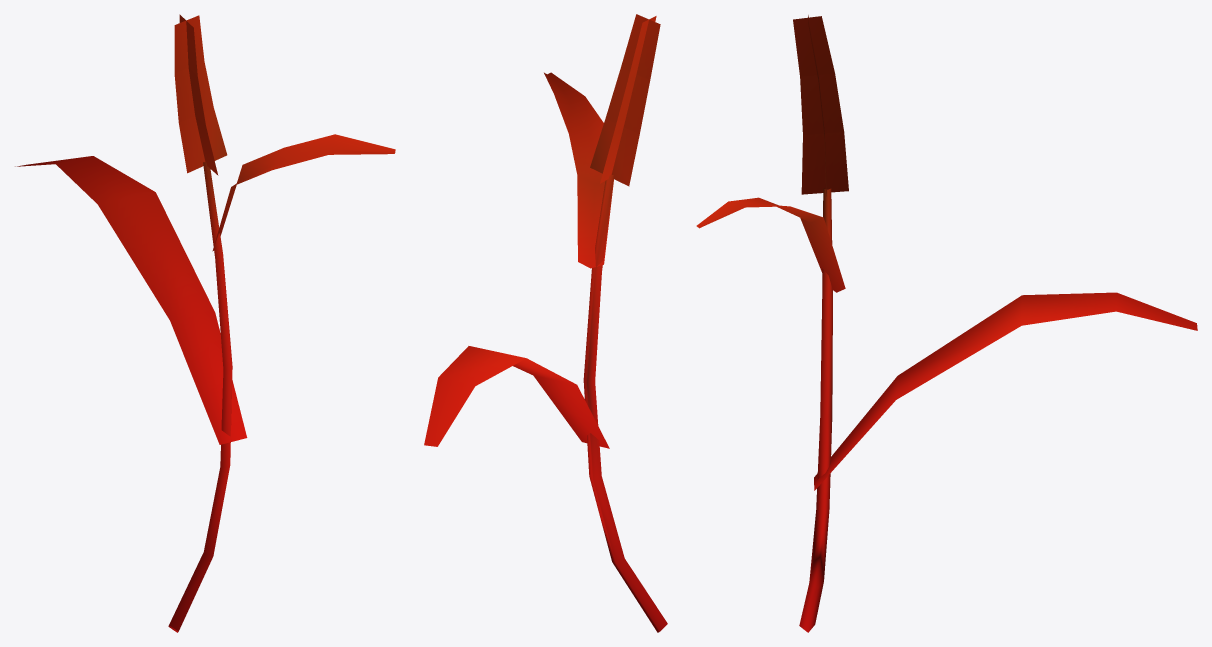
File: SM_WheatPlants_7.fbx
The picture shows the model from 3 angles, left to right: view 1: azimuth 30°, elevation 25°; view 2: azimuth 150°, elevation 25°; view 3: azimuth 270°, elevation 25°; orthographic projection.
Visible parts, largest first — view 1: SM_WheatPlants_7; view 2: SM_WheatPlants_7; view 3: SM_WheatPlants_7.
Boxes of the visible parts, <box> form: SM_WheatPlants_7: <box>15,14,395,632</box>; SM_WheatPlants_7: <box>424,14,667,632</box>; SM_WheatPlants_7: <box>696,15,1197,632</box>.
Bounding box in the file's own units: 0.3502 × 1.17 × 0.8551.
